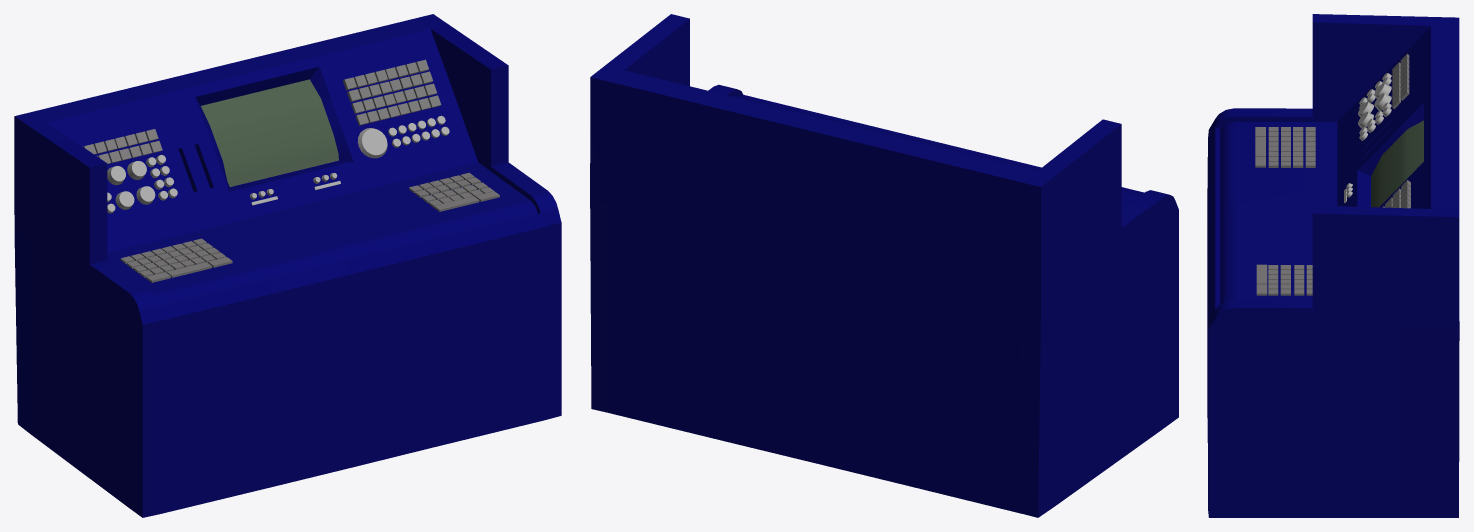
The model's file is PowerUp.fbx.
The picture shows the model from 3 angles, left to right: view 1: azimuth 30°, elevation 25°; view 2: azimuth 150°, elevation 25°; view 3: azimuth 270°, elevation 25°; orthographic projection. The views are drawn at different scales.
Visible parts, largest first — view 1: polySurface6, polySurface8, polySurface9; view 2: polySurface6; view 3: polySurface6, polySurface9, polySurface8.
Part boxes in pixels (left/top/right/bottom): polySurface6: left=14, top=14, right=561, bottom=517; polySurface8: left=107, top=83, right=449, bottom=213; polySurface9: left=343, top=59, right=432, bottom=101; polySurface6: left=590, top=14, right=1178, bottom=517; polySurface6: left=1207, top=14, right=1459, bottom=517; polySurface9: left=1392, top=180, right=1410, bottom=208; polySurface8: left=1359, top=73, right=1392, bottom=207.
Bounding box in the file's own units: 19.7 × 14.03 × 10.51.
